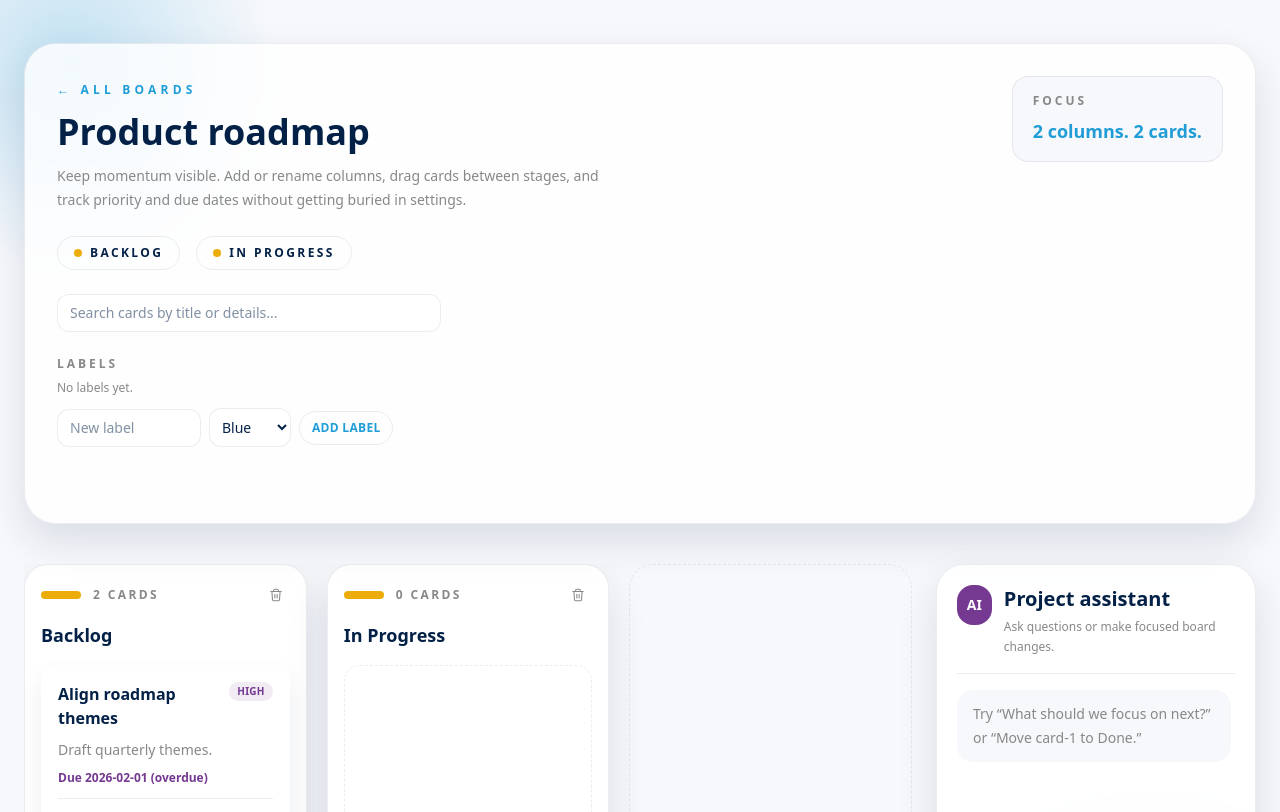
Test case: KanbanBoard › creates a label and deletes it
This screenshot has width=1280, height=812.
In the field named "New label name": coordinates (129, 428) [57,408,201,446], type "Urgent"
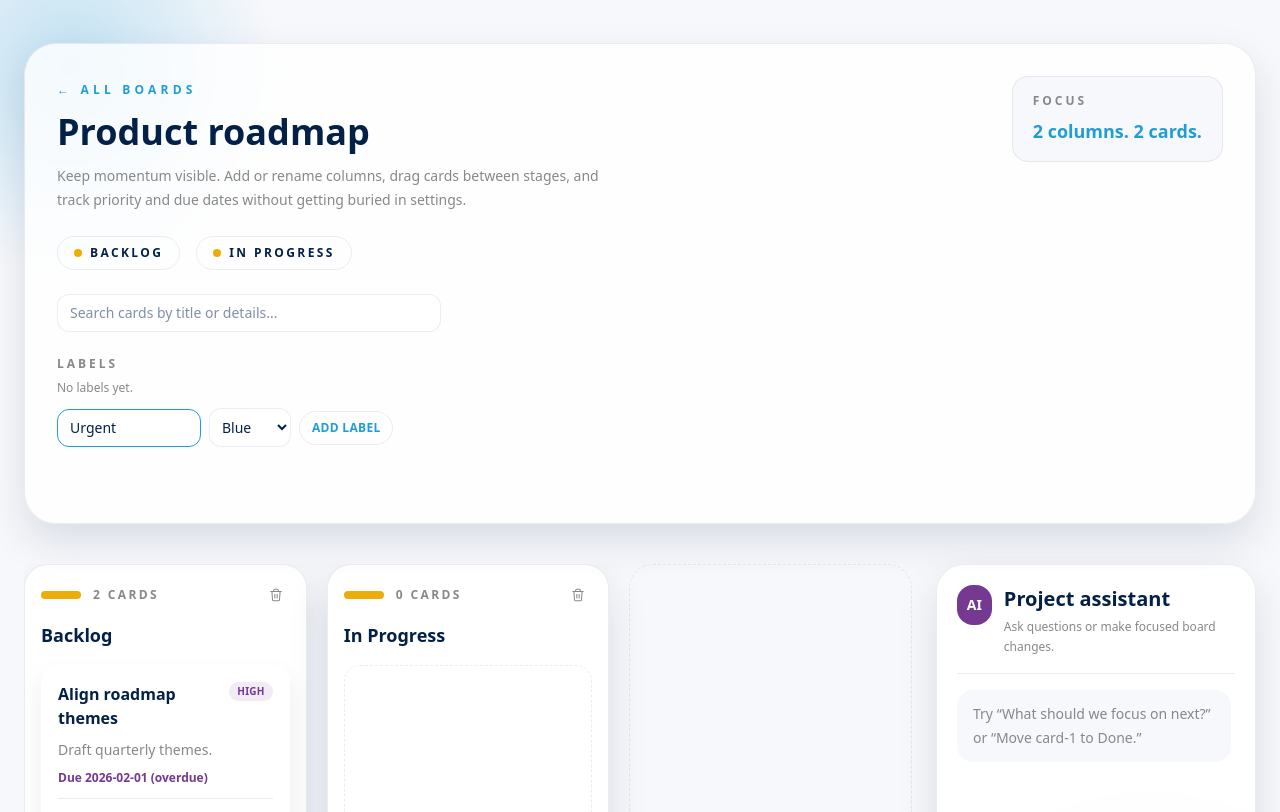
Select "Yellow" in the dropdown named "Label color": coordinates (250, 428) [209,408,291,447]
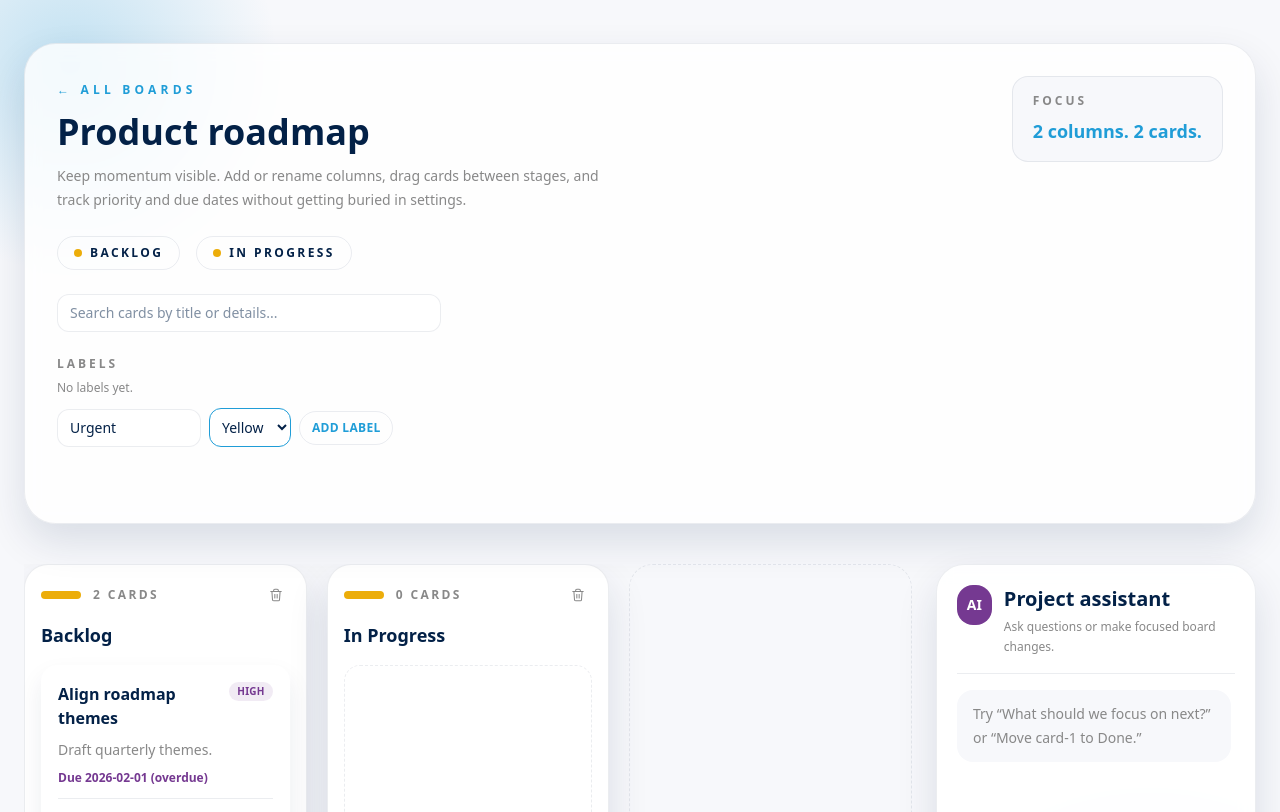
Click the button "Add label": coordinates (346, 428) [299,410,394,444]
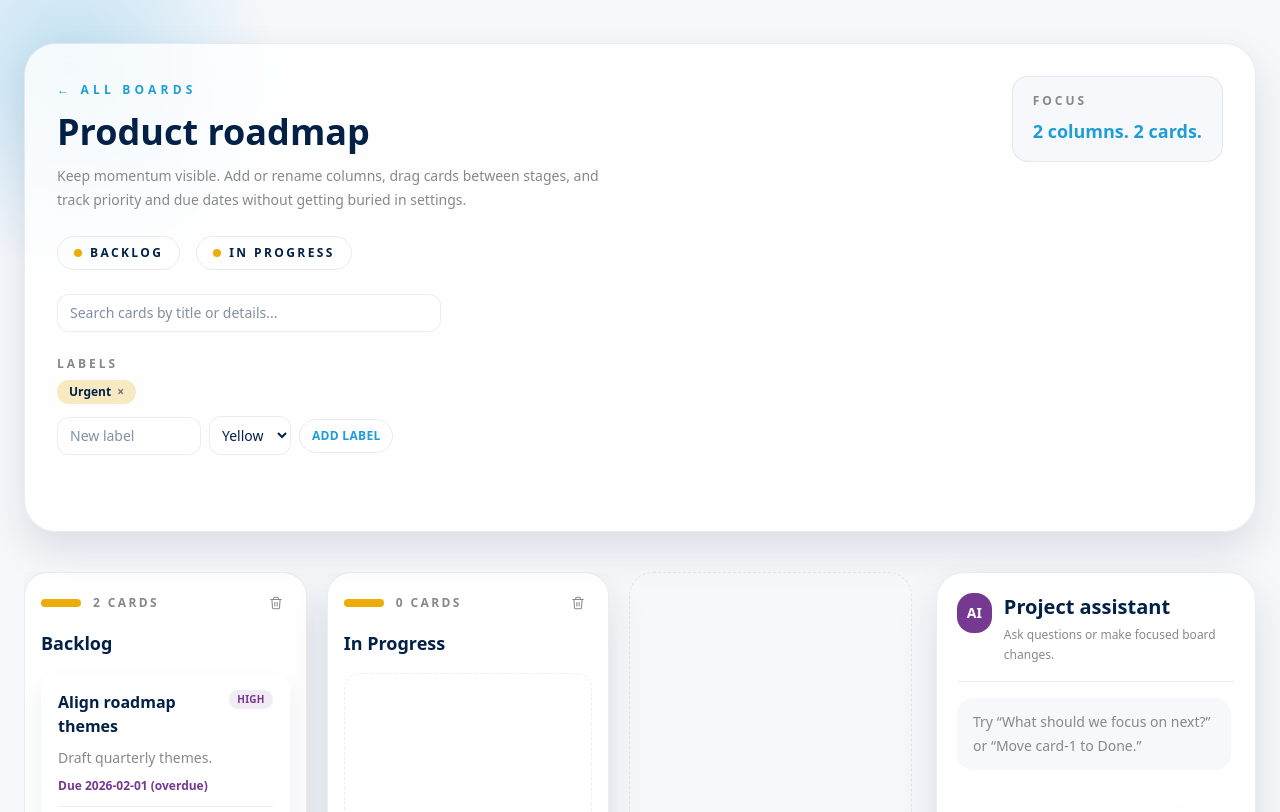
Expected: the text "Urgent" is shown, [69,383,111,400]
Click the button named "Delete label Urgent": coordinates (121, 392) [117,384,124,400]
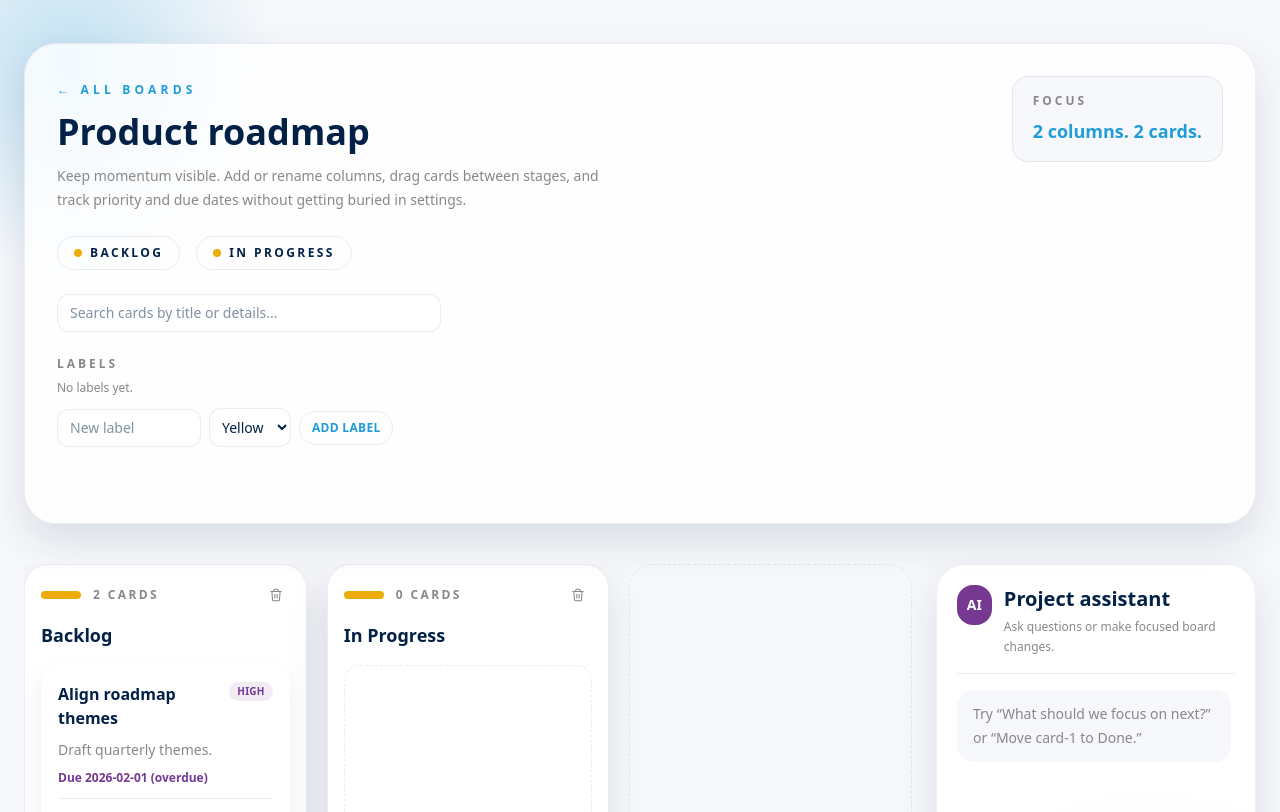
Expected: the text "Urgent" is gone
